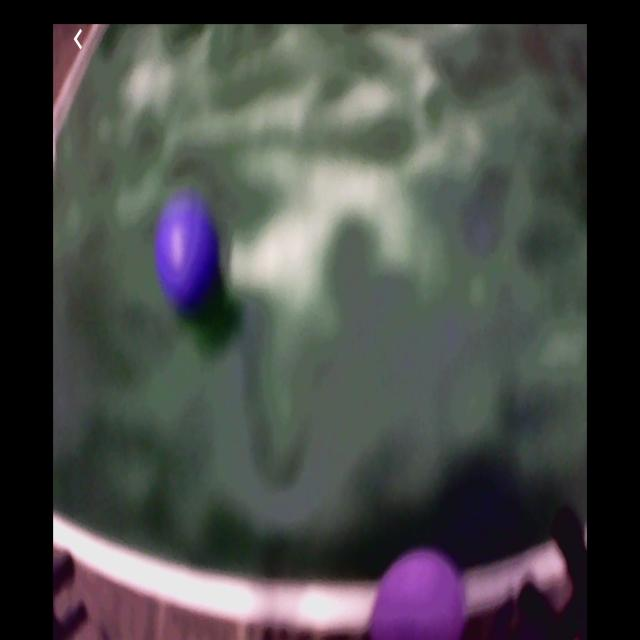ball: (374, 554, 460, 640), (157, 200, 218, 308)
